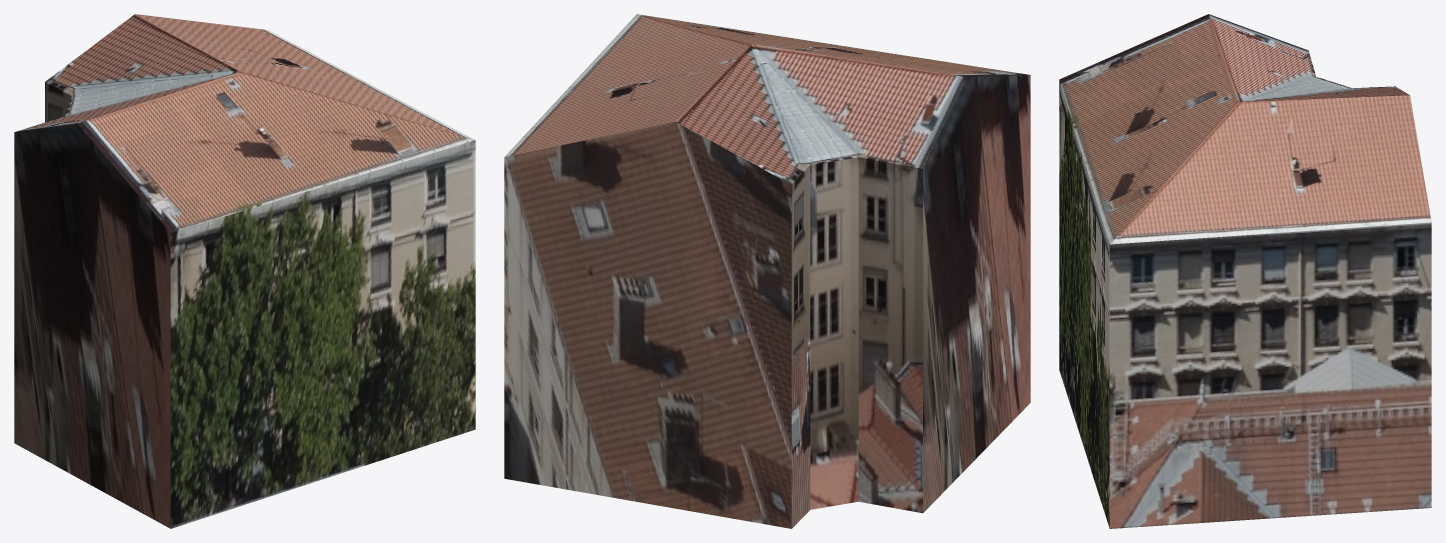
3 renders of one model, left to right at view 1: azimuth 30°, elevation 25°; view 2: azimuth 150°, elevation 25°; view 3: azimuth 270°, elevation 25°, orthographic. The views are drawn at different scales.
Parts seen in each view (by area): view 1: Z_UP; view 2: Z_UP; view 3: Z_UP.
Boxes of the visible parts, left/top/right/bottom form: Z_UP: left=14, top=14, right=475, bottom=528; Z_UP: left=504, top=14, right=1030, bottom=528; Z_UP: left=1059, top=14, right=1431, bottom=528.
Size of the model in its own units: 20.38 by 19.16 by 18.57.
Materials: 2 (1 with a texture image).
